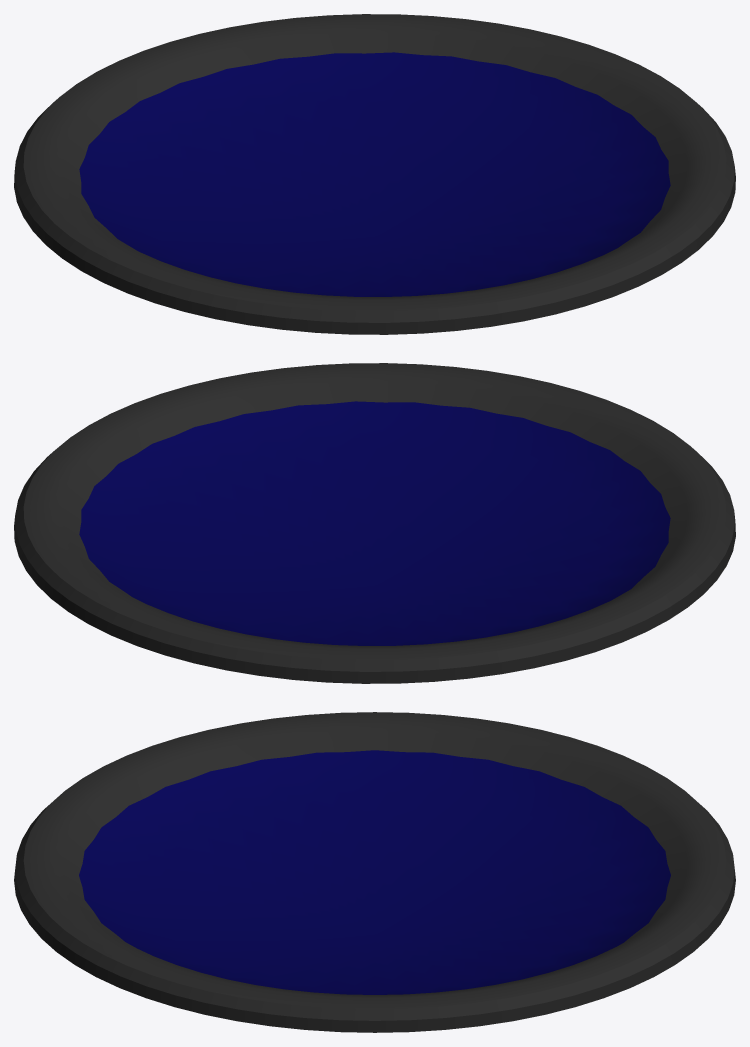
File: disco_planetario.fbx
3 views of the same model, one above another, from view 1: azimuth 30°, elevation 25°; view 2: azimuth 150°, elevation 25°; view 3: azimuth 270°, elevation 25° (orthographic).
Visible parts, largest first — view 1: Circle; view 2: Circle; view 3: Circle.
Part boxes in pixels (<box>): Circle: <box>14,14,735,334</box>; Circle: <box>14,363,735,683</box>; Circle: <box>14,712,735,1032</box>.
Size of the model in its own units: 199 by 22.97 by 199.
